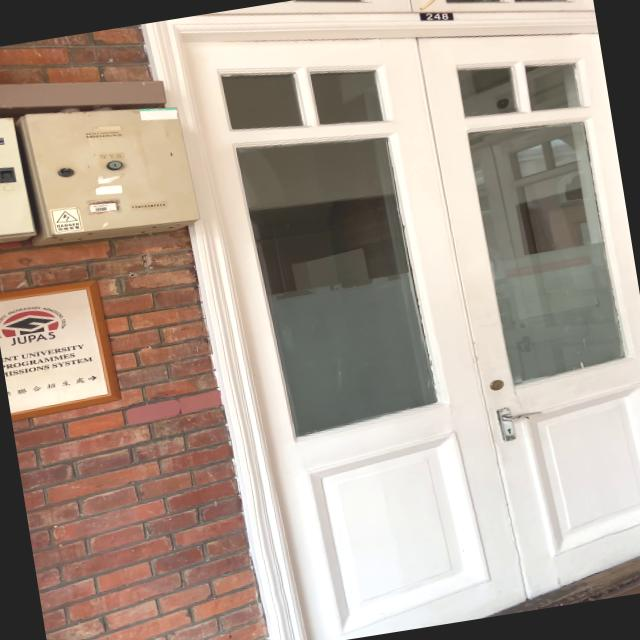room248: (414, 5, 457, 27)
